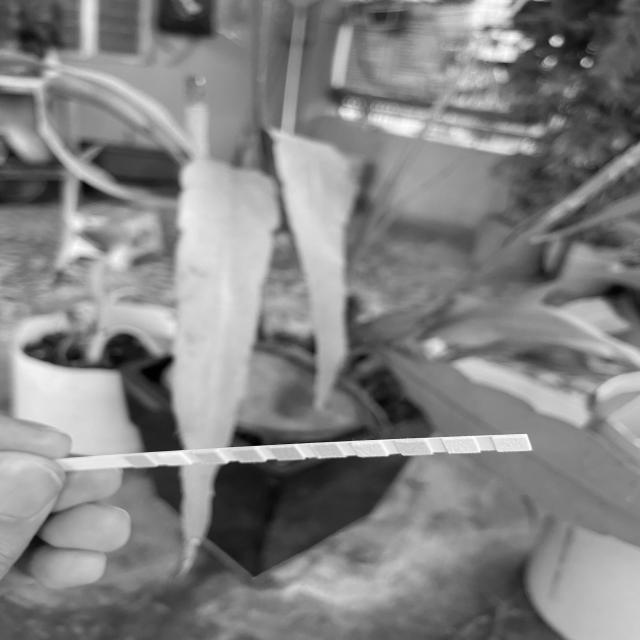Bilirubin: (168, 452, 180, 465)
Blood: (277, 447, 294, 460)
Glucose: (134, 456, 146, 466)
Ketone: (203, 452, 216, 464)
Nitrite: (449, 438, 473, 453)
Protein: (498, 434, 526, 452), (360, 441, 380, 457)
SpGravity: (242, 449, 254, 462)
Urobilinogen: (403, 440, 424, 456)
background: (0, 0, 640, 640)
pH: (319, 443, 336, 457)
strip: (64, 434, 532, 472)
